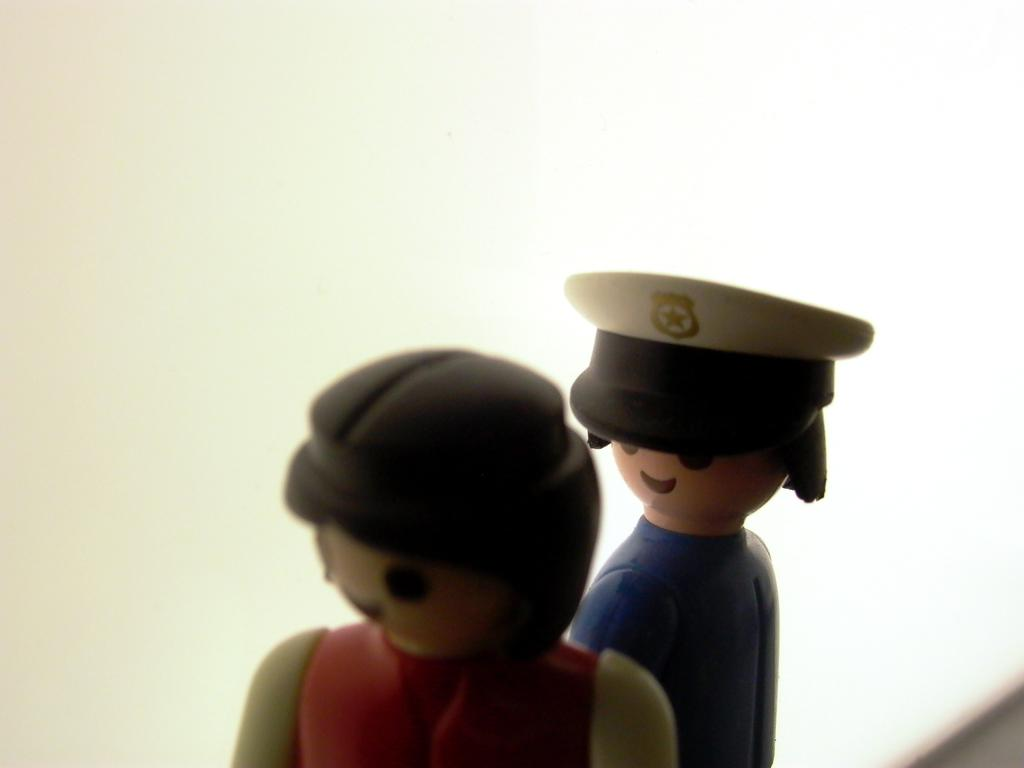Hat: (558, 268, 875, 454)
